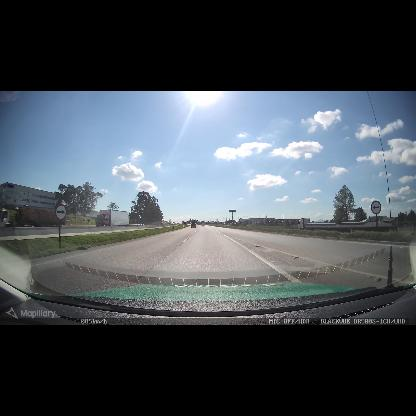R-24a: (55, 204, 67, 220), (371, 200, 381, 214)
